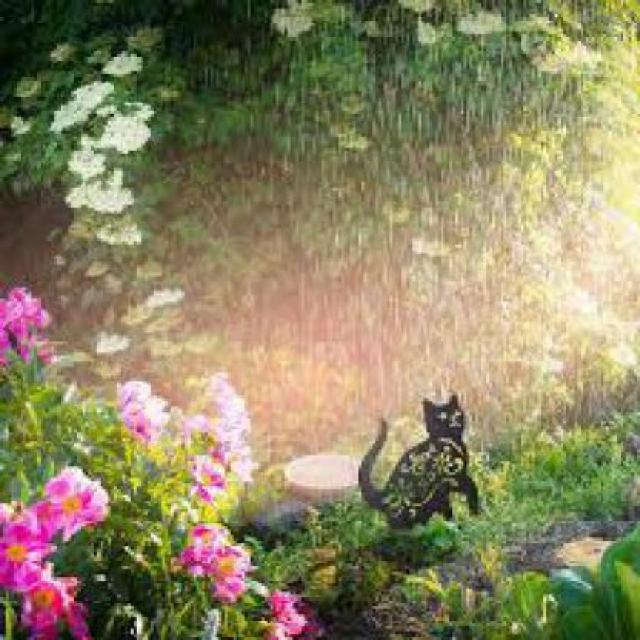animals: (358, 392, 489, 546)
